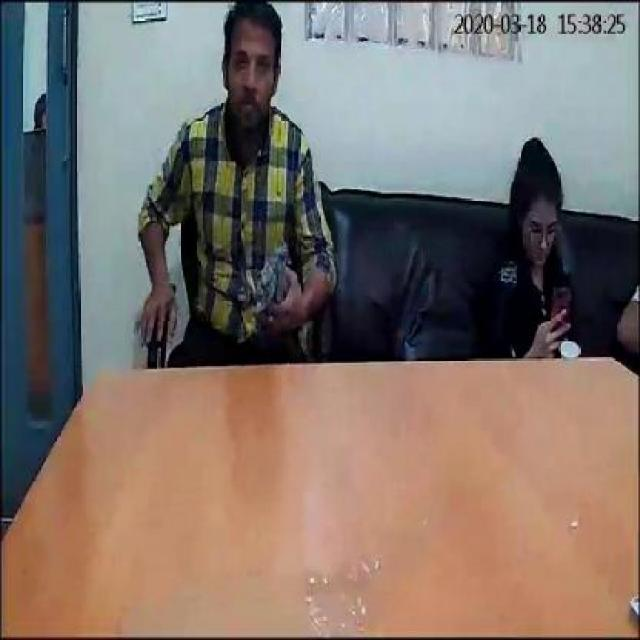spill: (301, 564, 384, 632)
